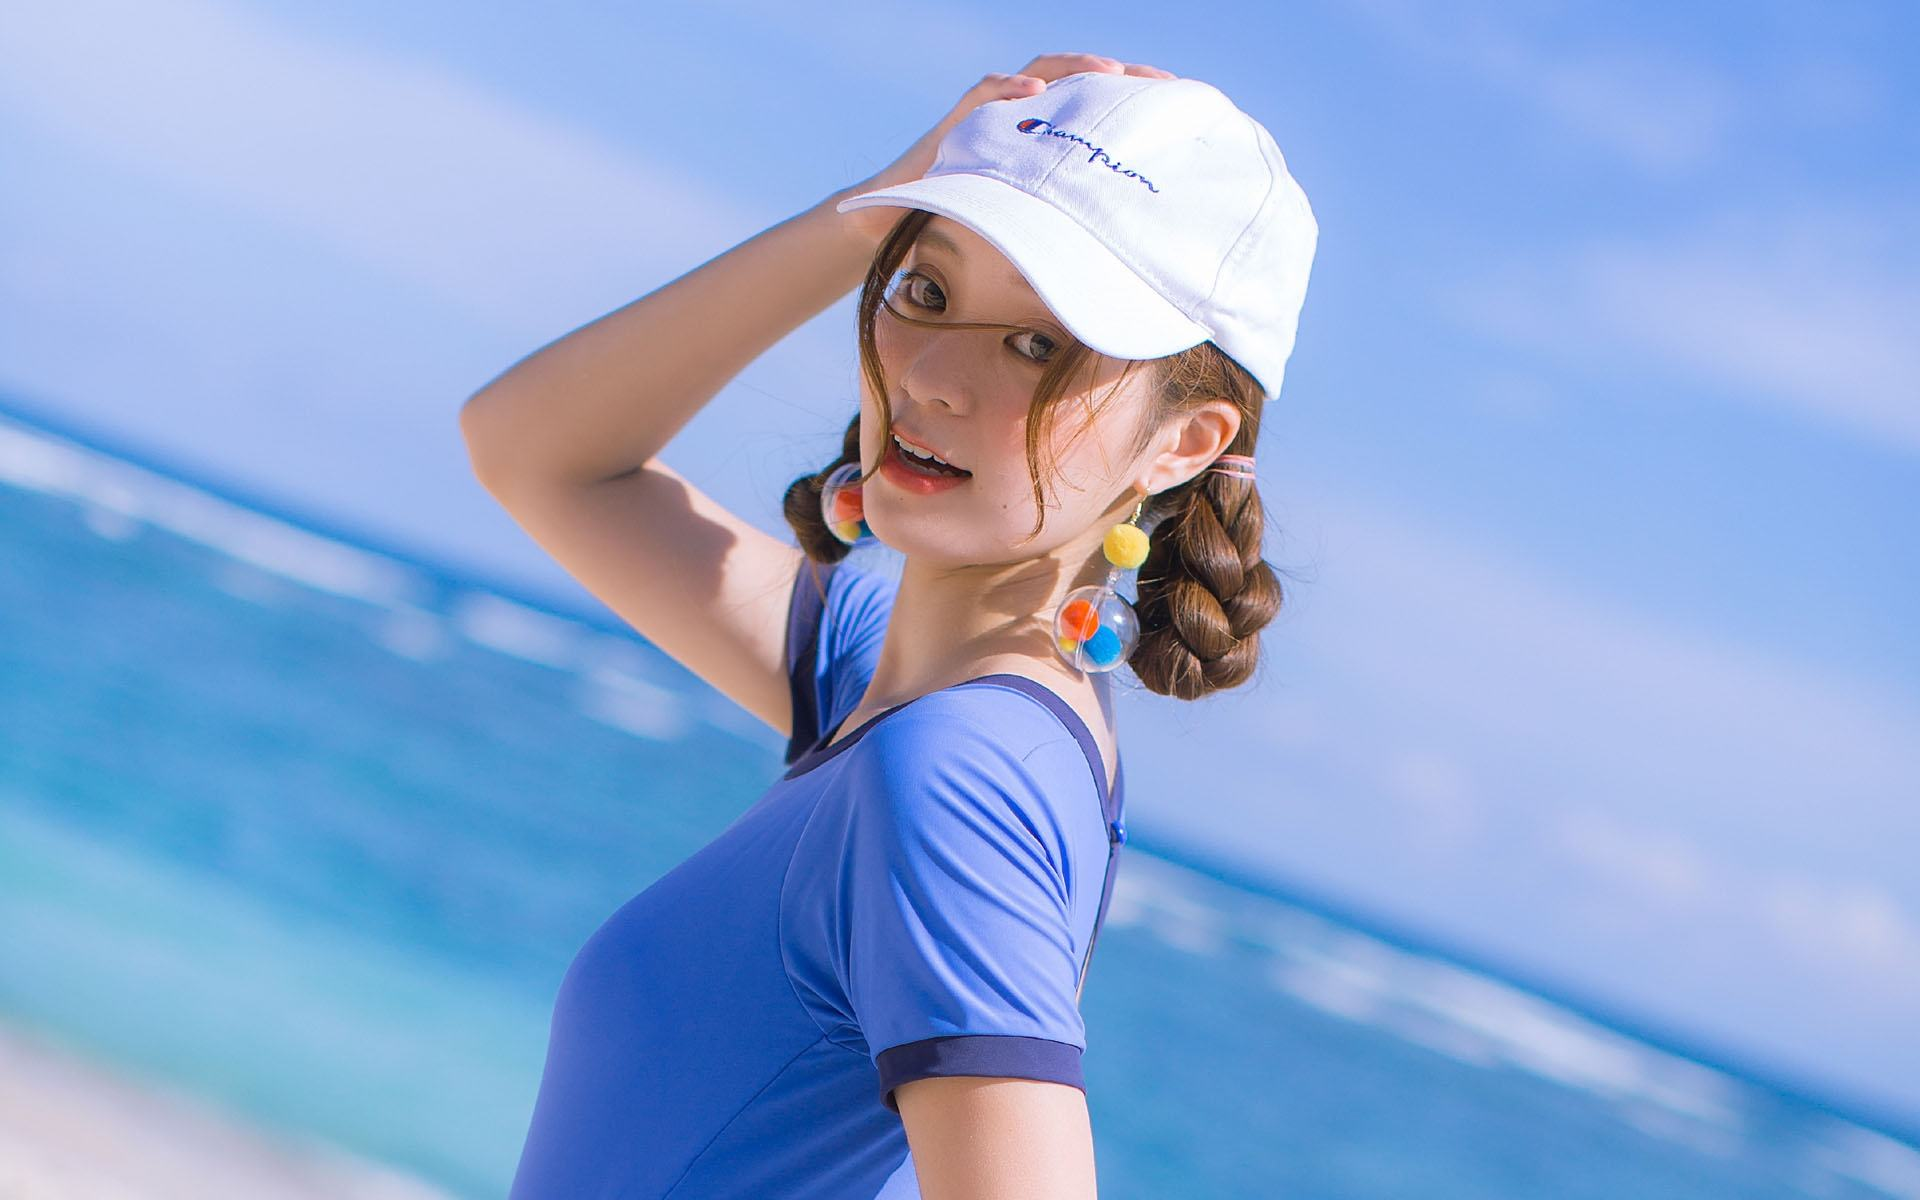person: (579, 133, 1398, 1192)
